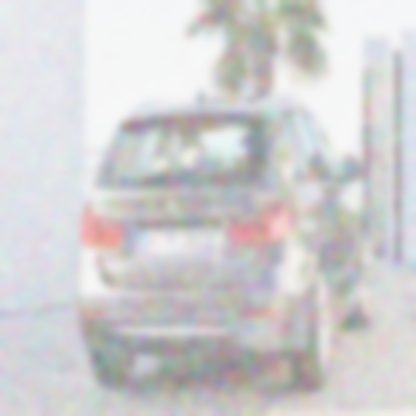Vehicle: (54, 76, 388, 395)
